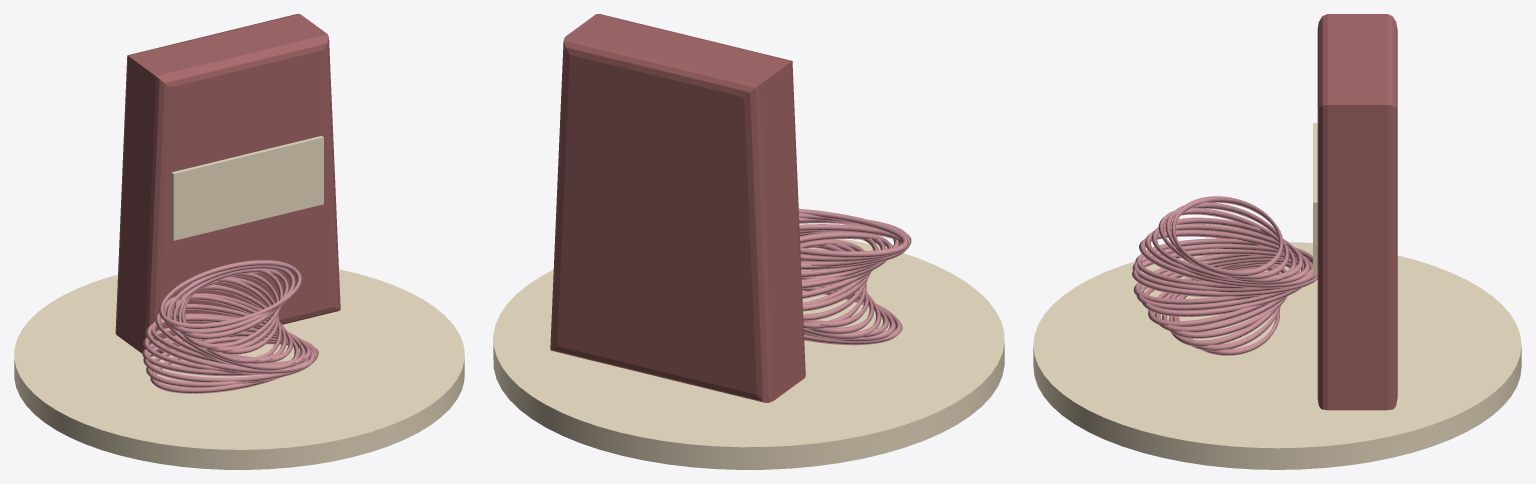
The model's file is pink-noodles-v1.glb.
3 renders of one model, left to right at view 1: azimuth 30°, elevation 25°; view 2: azimuth 150°, elevation 25°; view 3: azimuth 270°, elevation 25°, orthographic. The views are drawn at different scales.
Parts seen in each view (by area): view 1: pink-noodles-concept; view 2: pink-noodles-concept; view 3: pink-noodles-concept.
Boxes of the visible parts, x1,y1,x2,y2 form: pink-noodles-concept: (14, 14, 464, 469); pink-noodles-concept: (493, 14, 1004, 469); pink-noodles-concept: (1033, 14, 1521, 469).
Size of the model in its own units: 2.44 by 1.77 by 2.44.
